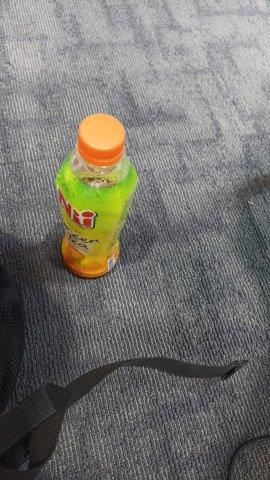botolplastik: (56, 114, 137, 278)
